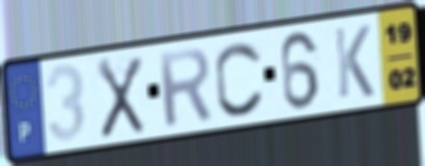3: (44, 60, 91, 147)
6: (280, 27, 321, 113)
C: (213, 39, 267, 120)
K: (332, 22, 377, 101)
R: (155, 45, 215, 131)
X: (94, 54, 146, 142)
